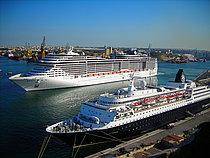Ship: (45, 78, 210, 138), (3, 47, 166, 95)
